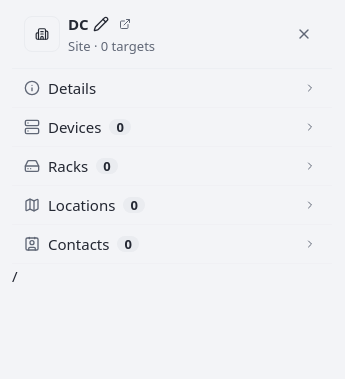
TreeNodeInspector › shows the full field set: previously-hidden fields surface, empties collapse
`slug` — a read-only field the CRUD form never carried — is now surfaced.
Step 1. Click the button "Details" → (72, 88), box x1=12 y1=69 x2=328 y2=107
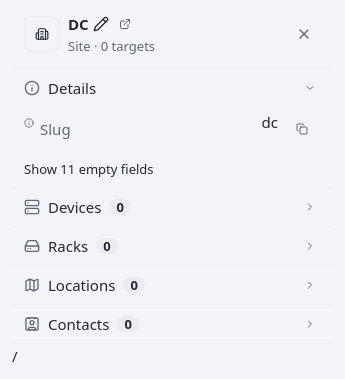
Check: the text "Slug" is shown, box x1=40 y1=118 x2=71 y2=140
Check: the text "dc" is shown, box x1=262 y1=111 x2=278 y2=133
Check: the button "Show 11 empty fields" is shown, box x1=24 y1=159 x2=154 y2=179
